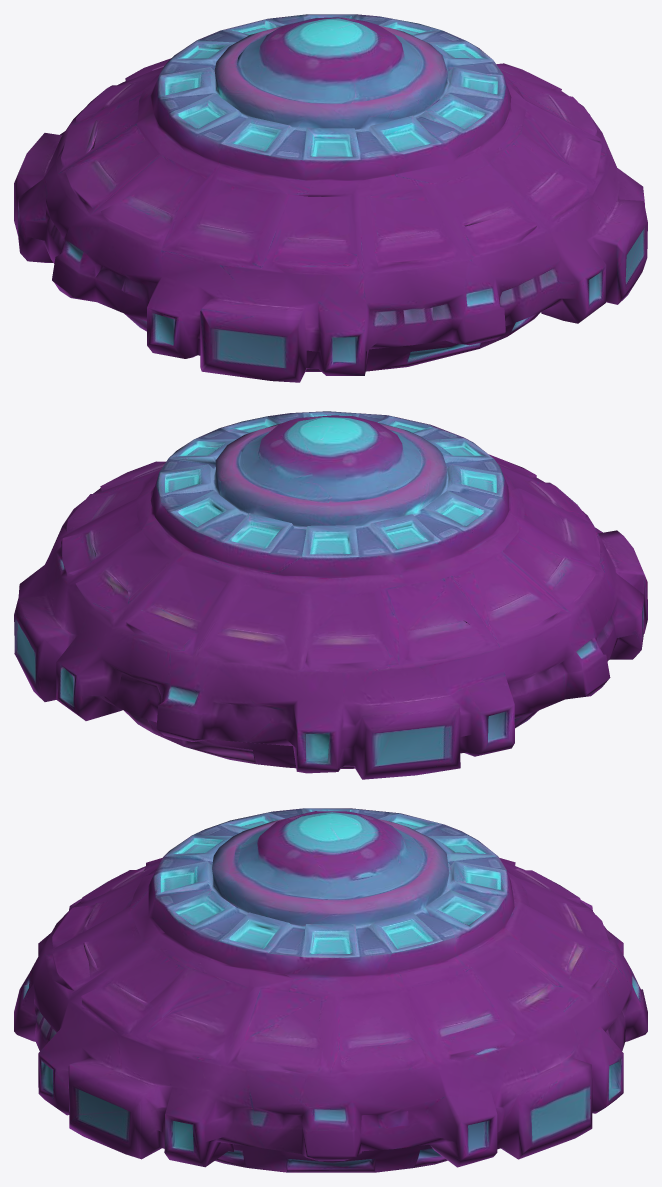
File: boss.glb
3 views of the same model, one above another, from view 1: azimuth 30°, elevation 25°; view 2: azimuth 150°, elevation 25°; view 3: azimuth 270°, elevation 25° (orthographic). The views are drawn at different scales.
Size of the model in its own units: 1.89 by 0.9334 by 1.89.
1 material, 1 textured.
